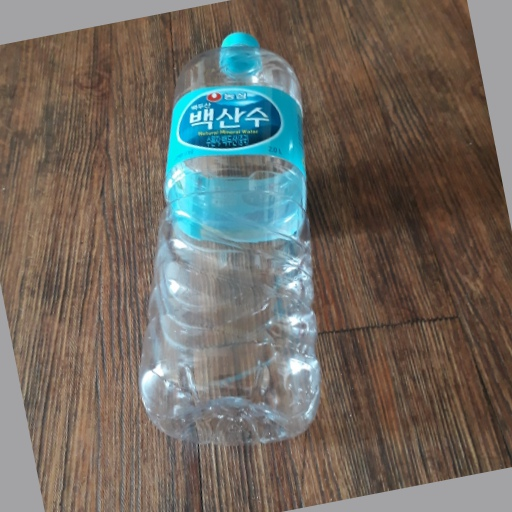Plastic_0: (140, 28, 321, 440)
